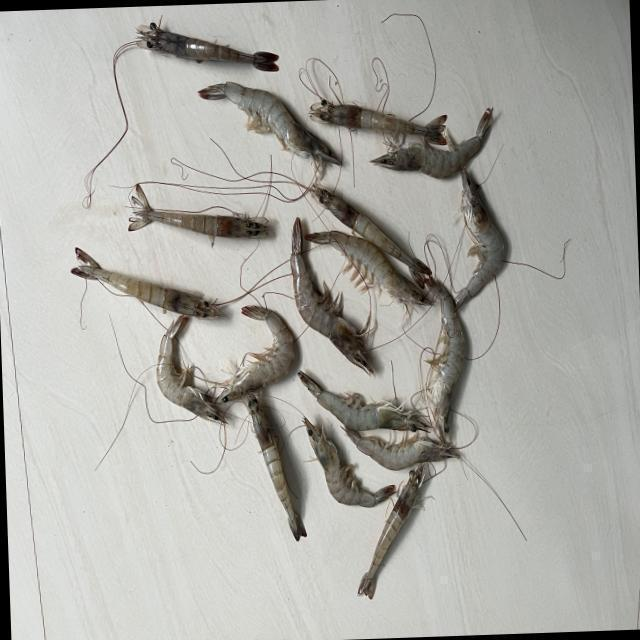shrimp: (198, 81, 340, 180), (290, 217, 374, 376), (70, 248, 218, 320), (241, 394, 306, 542), (310, 185, 422, 269), (305, 231, 431, 305), (358, 464, 425, 600), (371, 108, 493, 178), (303, 417, 396, 508), (127, 184, 269, 241), (298, 371, 429, 432), (120, 21, 278, 70), (156, 315, 226, 424), (216, 306, 294, 403), (455, 166, 505, 310), (426, 277, 465, 442), (309, 99, 447, 144), (344, 428, 460, 471)
